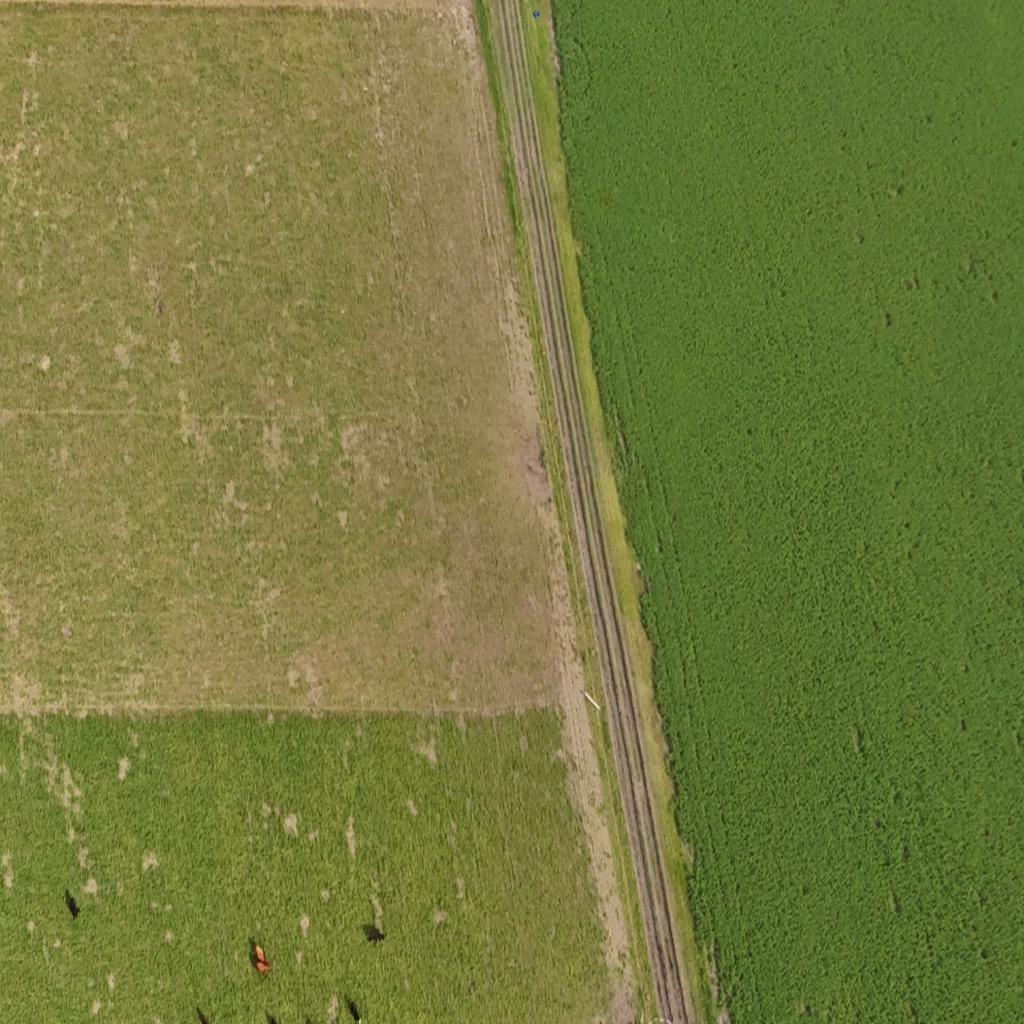cow: (248, 932, 268, 960), (66, 890, 80, 920), (366, 925, 385, 943), (251, 956, 266, 978), (348, 1000, 361, 1024), (196, 1007, 211, 1024), (266, 1011, 278, 1024)
